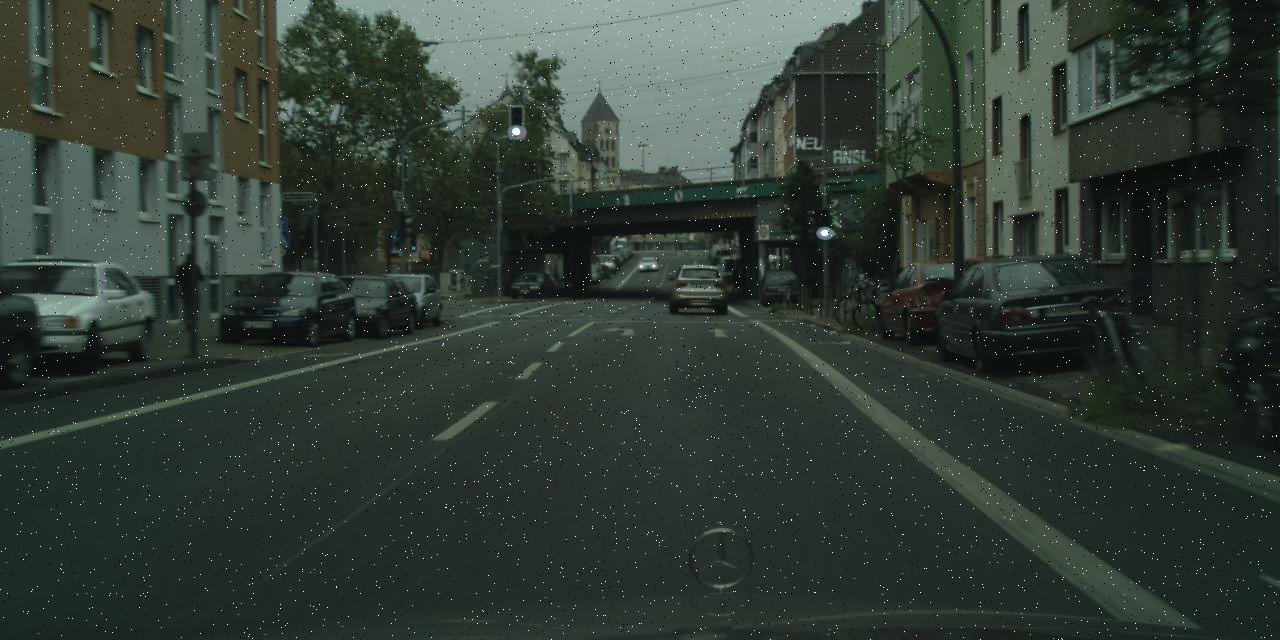ped: (173, 252, 205, 332), (887, 259, 907, 308), (854, 266, 870, 304), (731, 267, 741, 294)
